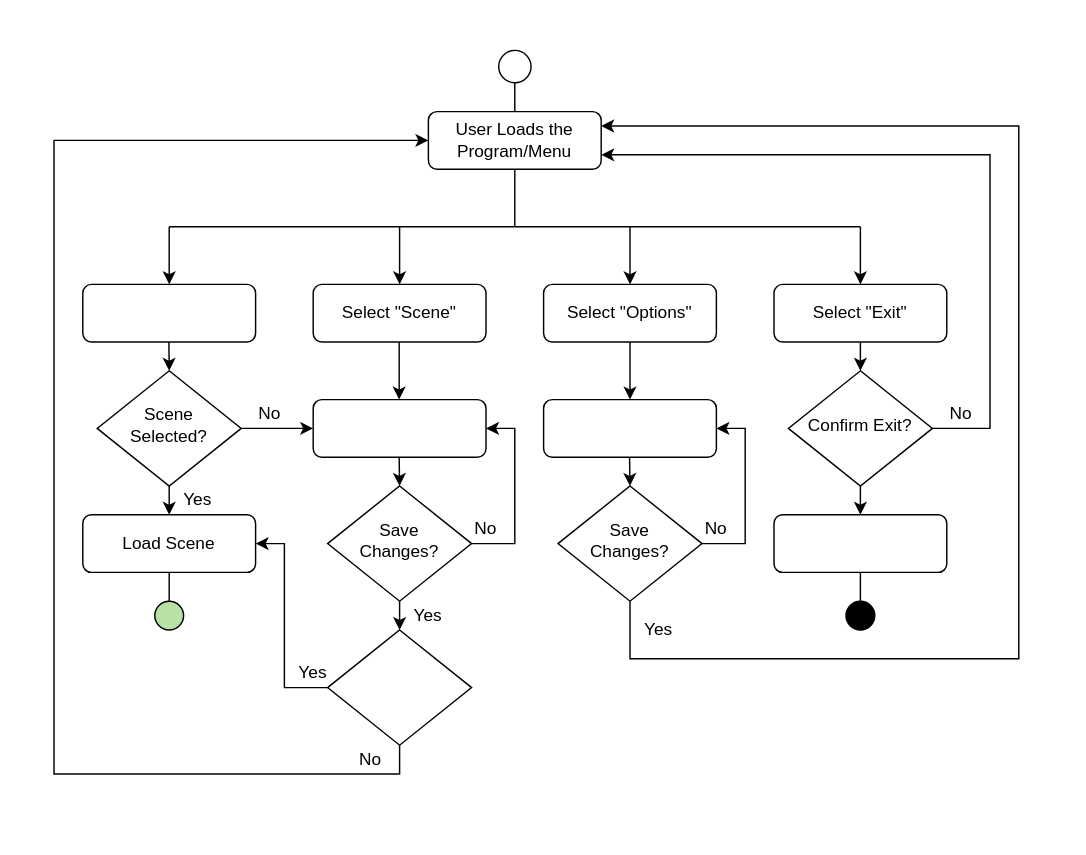
Image size: 1086x855. Some labels were removed from this diagram. The shapes that lost their labels are listed below. From the top down, each one's centre as x and y in pixels, then its label:
(168,312): Select "Play"
(399,427): Adjust Scene
(629,427): Adjust Options
(860,542): Exit Application
(399,687): Play Scene?
